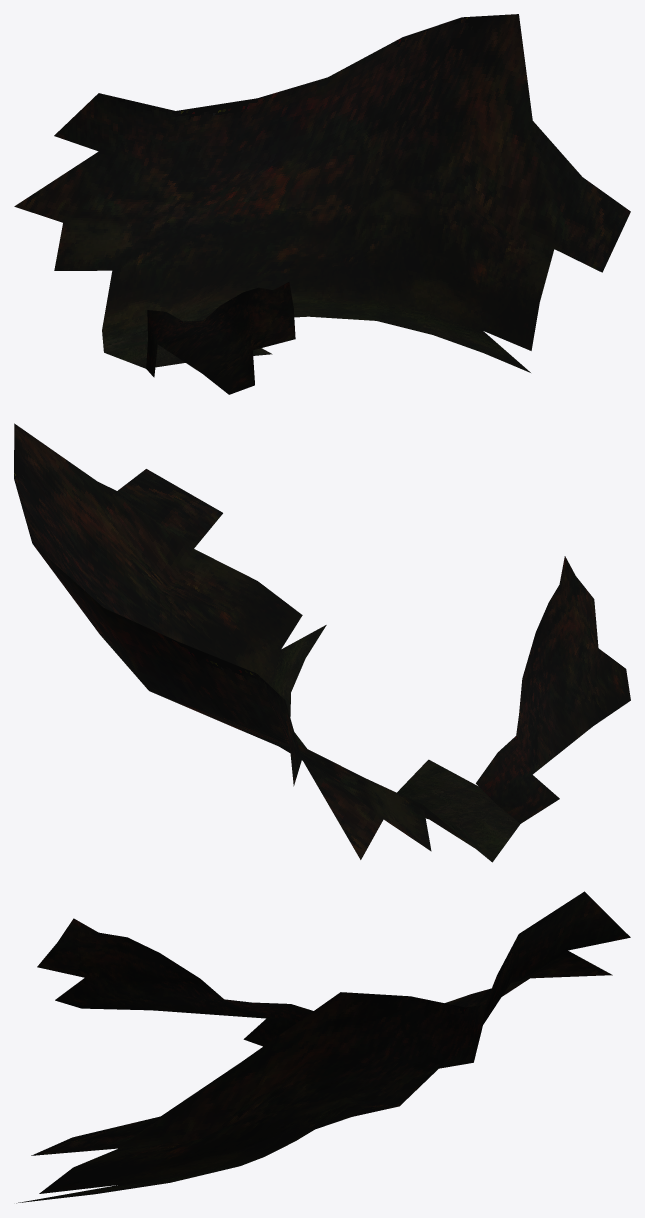
Rendered from cell_5_-19.gltf.
The picture shows the model from 3 angles, top to bottom: view 1: azimuth 30°, elevation 25°; view 2: azimuth 150°, elevation 25°; view 3: azimuth 270°, elevation 25°; orthographic projection. The views are drawn at different scales.
Visible parts, largest first — view 1: cell_5_-19; view 2: cell_5_-19; view 3: cell_5_-19.
Boxes of the visible parts, bbox=[...] form: cell_5_-19: bbox=[14, 14, 630, 394]; cell_5_-19: bbox=[14, 423, 630, 862]; cell_5_-19: bbox=[16, 891, 630, 1203].
Bounding box in the file's own units: 273 × 161 × 294.
Materials: 2 (2 with a texture image).
